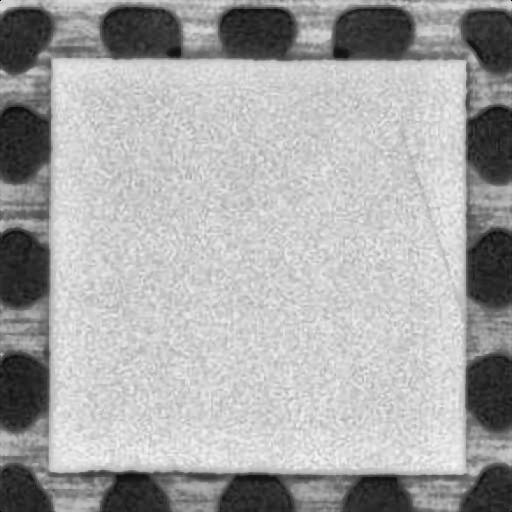DIE_CRACK: (395, 120, 475, 359)
